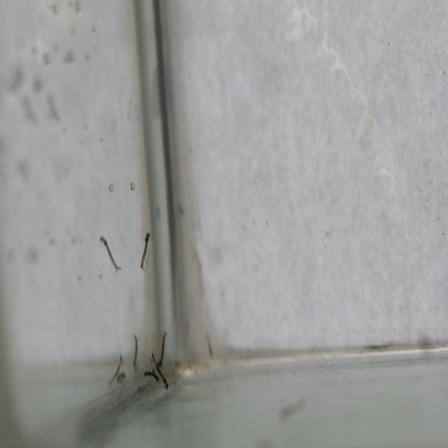Jentik-Nyamuk: (148, 330, 171, 391), (134, 228, 155, 273)
